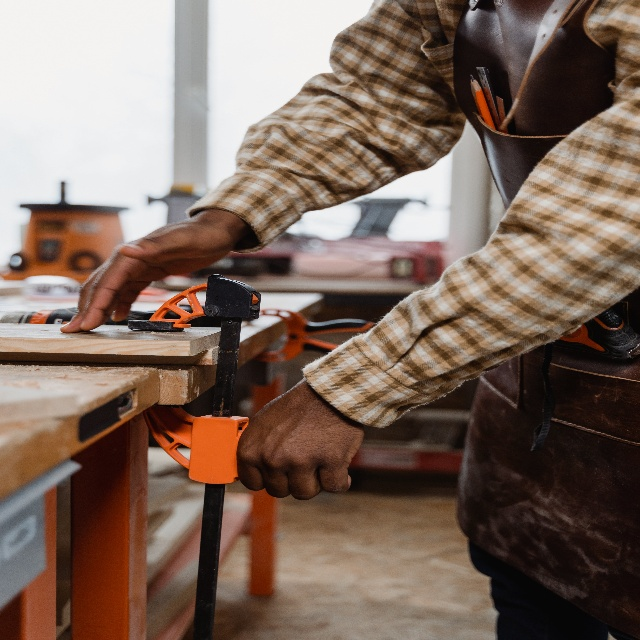Sin_guantes: (58, 217, 237, 317), (237, 387, 364, 502)
